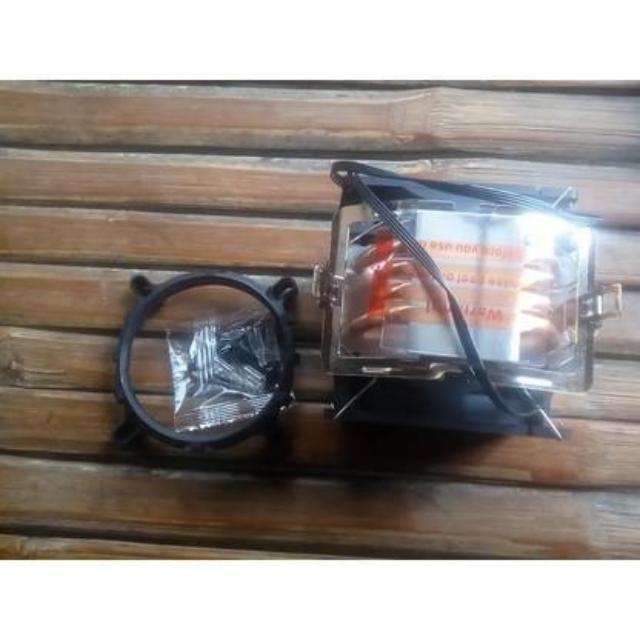CPU_Fan: (318, 153, 604, 445)
